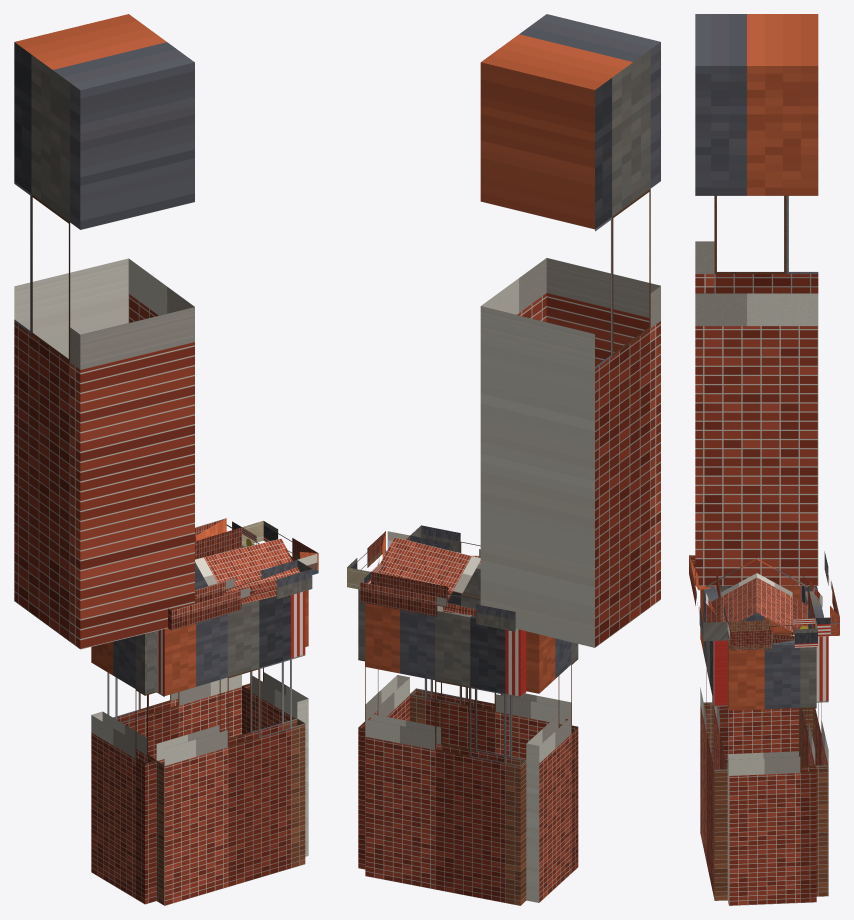
3 views of the same model, side by side, from view 1: azimuth 30°, elevation 25°; view 2: azimuth 150°, elevation 25°; view 3: azimuth 270°, elevation 25° (orthographic). The views are drawn at different scales.
Visible parts, largest first — view 1: 1107107796__chimney_0_xb, 1107107796__wall_0_xb, 1107107796__wall_1_xb, 1107107796__wall_2_xb, 1107107796_roof_-1_xb, 1107107796__cornice_0, 1107107796__wall_3_xb, 1107107796__cornice_2, 1107107796__cornice_3; view 2: 1107107796__chimney_0_xb, 1107107796__wall_2_xb, 1107107796__wall_1_xb, 1107107796__wall_0_xb, 1107107796__cornice_2, 1107107796_roof_1_xb, 1107107796__wall_3_xb, 1107107796__cornice_3, 1107107796__cornice_0; view 3: 1107107796__chimney_0_xb, 1107107796__wall_3_xb, 1107107796__wall_0_xb, 1107107796__wall_2_xb, 1107107796__wall_1_xb, 1107107796__cornice_3, 1107107796_roof_1_xb, 1107107796_roof_-1_xb, 1107107796__cornice_0, 1107107796__cornice_2.
Part boxes in pixels (left/top/right/bottom): 1107107796__chimney_0_xb: left=14, top=14, right=194, bottom=649; 1107107796__wall_0_xb: left=156, top=591, right=305, bottom=905; 1107107796__wall_1_xb: left=91, top=631, right=156, bottom=904; 1107107796__wall_2_xb: left=107, top=547, right=241, bottom=759; 1107107796_roof_-1_xb: left=195, top=538, right=299, bottom=604; 1107107796__cornice_0: left=168, top=560, right=312, bottom=630; 1107107796__wall_3_xb: left=242, top=543, right=308, bottom=856; 1107107796__cornice_2: left=195, top=518, right=241, bottom=559; 1107107796__cornice_3: left=242, top=520, right=318, bottom=574; 1107107796__chimney_0_xb: left=480, top=14, right=660, bottom=647; 1107107796__wall_2_xb: left=365, top=603, right=526, bottom=905; 1107107796__wall_1_xb: left=526, top=631, right=578, bottom=902; 1107107796__wall_0_xb: left=410, top=564, right=571, bottom=759; 1107107796__cornice_2: left=360, top=572, right=515, bottom=631; 1107107796_roof_1_xb: left=377, top=537, right=480, bottom=600; 1107107796__wall_3_xb: left=358, top=589, right=409, bottom=869; 1107107796__cornice_3: left=347, top=531, right=409, bottom=589; 1107107796__cornice_0: left=410, top=525, right=480, bottom=563; 1107107796__chimney_0_xb: left=695, top=14, right=818, bottom=585; 1107107796__wall_3_xb: left=727, top=640, right=816, bottom=905; 1107107796__wall_0_xb: left=700, top=586, right=727, bottom=900; 1107107796__wall_2_xb: left=800, top=586, right=828, bottom=896; 1107107796__wall_1_xb: left=712, top=586, right=799, bottom=767; 1107107796__cornice_3: left=727, top=618, right=817, bottom=650; 1107107796_roof_1_xb: left=757, top=558, right=807, bottom=632; 1107107796_roof_-1_xb: left=706, top=558, right=756, bottom=625; 1107107796__cornice_0: left=689, top=555, right=727, bottom=641; 1107107796__cornice_2: left=803, top=551, right=839, bottom=636.
Bounding box in the file's own units: 0.3365 × 1.05 × 0.1841.
Materials: 1 (1 with a texture image).
